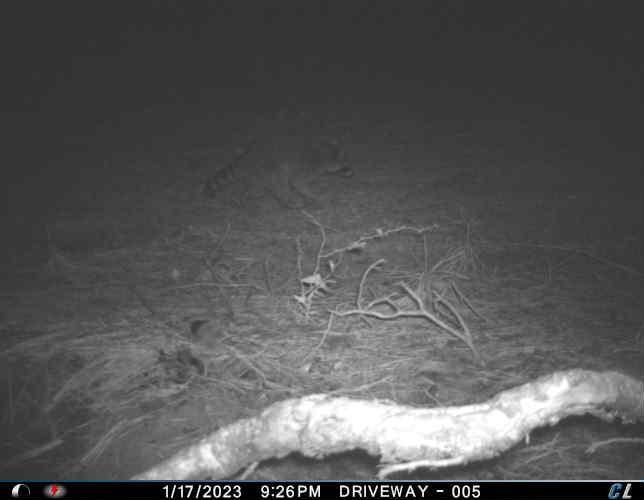Raccoon: (199, 133, 357, 219)
